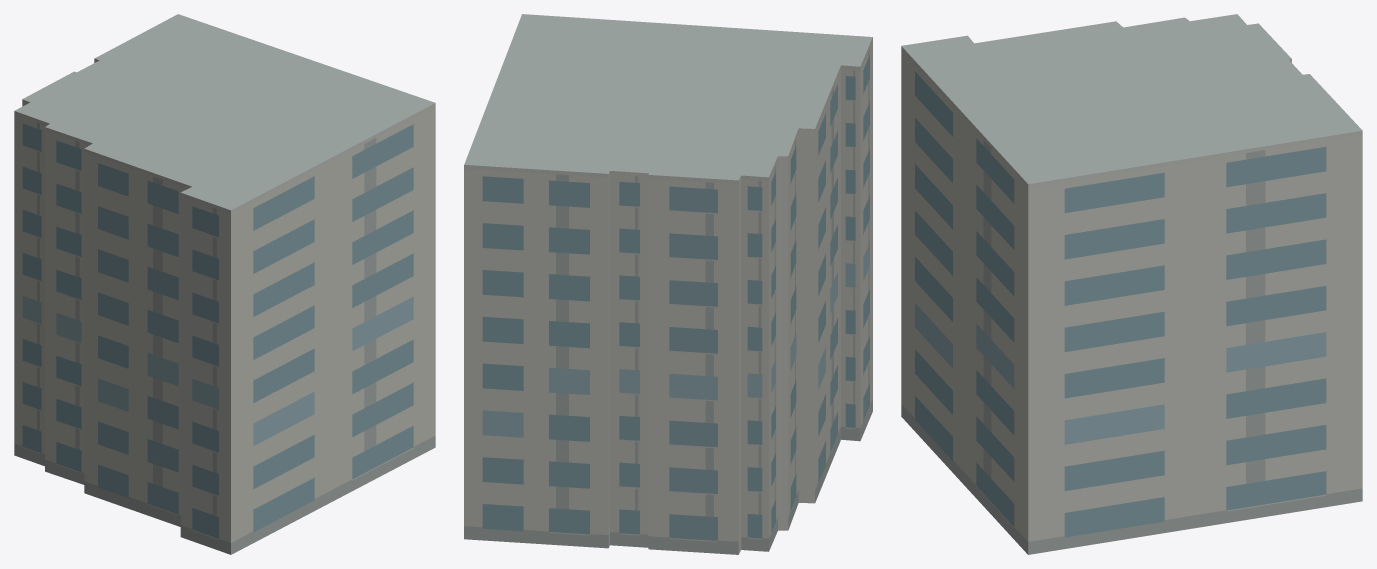
Rendered from survey-upis-32828435.glb.
The picture shows the model from 3 angles, left to right: view 1: azimuth 30°, elevation 25°; view 2: azimuth 150°, elevation 25°; view 3: azimuth 270°, elevation 25°; orthographic projection. The views are drawn at different scales.
Visible parts, largest first — view 1: survey-upis-32828435.tmp; view 2: survey-upis-32828435.tmp; view 3: survey-upis-32828435.tmp.
Part boxes in pixels (x1,y1,x2,y2): survey-upis-32828435.tmp: [14, 14, 435, 554]; survey-upis-32828435.tmp: [464, 14, 872, 554]; survey-upis-32828435.tmp: [901, 14, 1362, 554].
Bounding box in the file's own units: 23.65 × 24 × 27.09.
